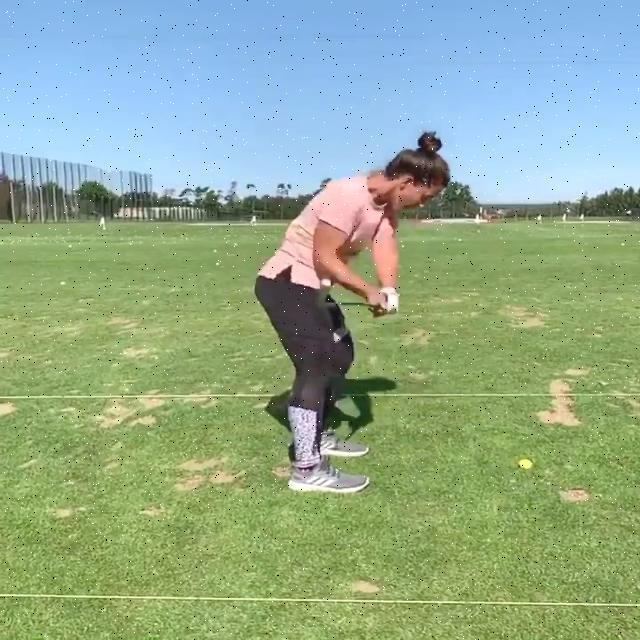ClubHead: (318, 280, 332, 304)
GolfBall: (518, 460, 532, 470)
